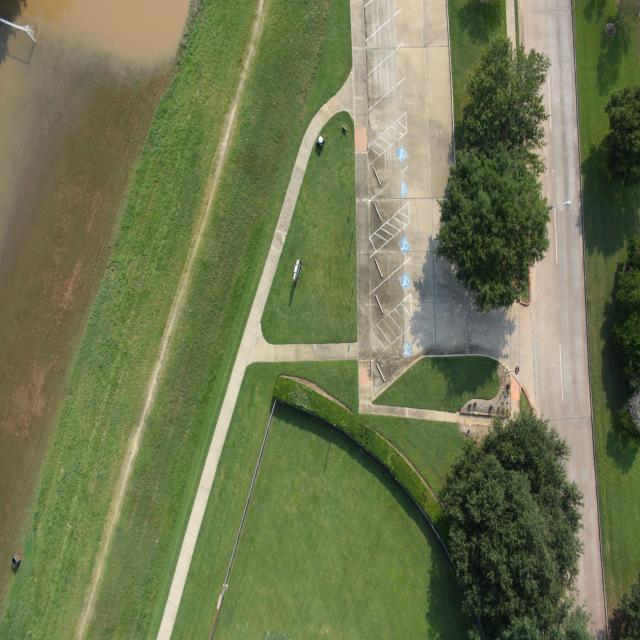fire: (22, 0, 189, 67)
